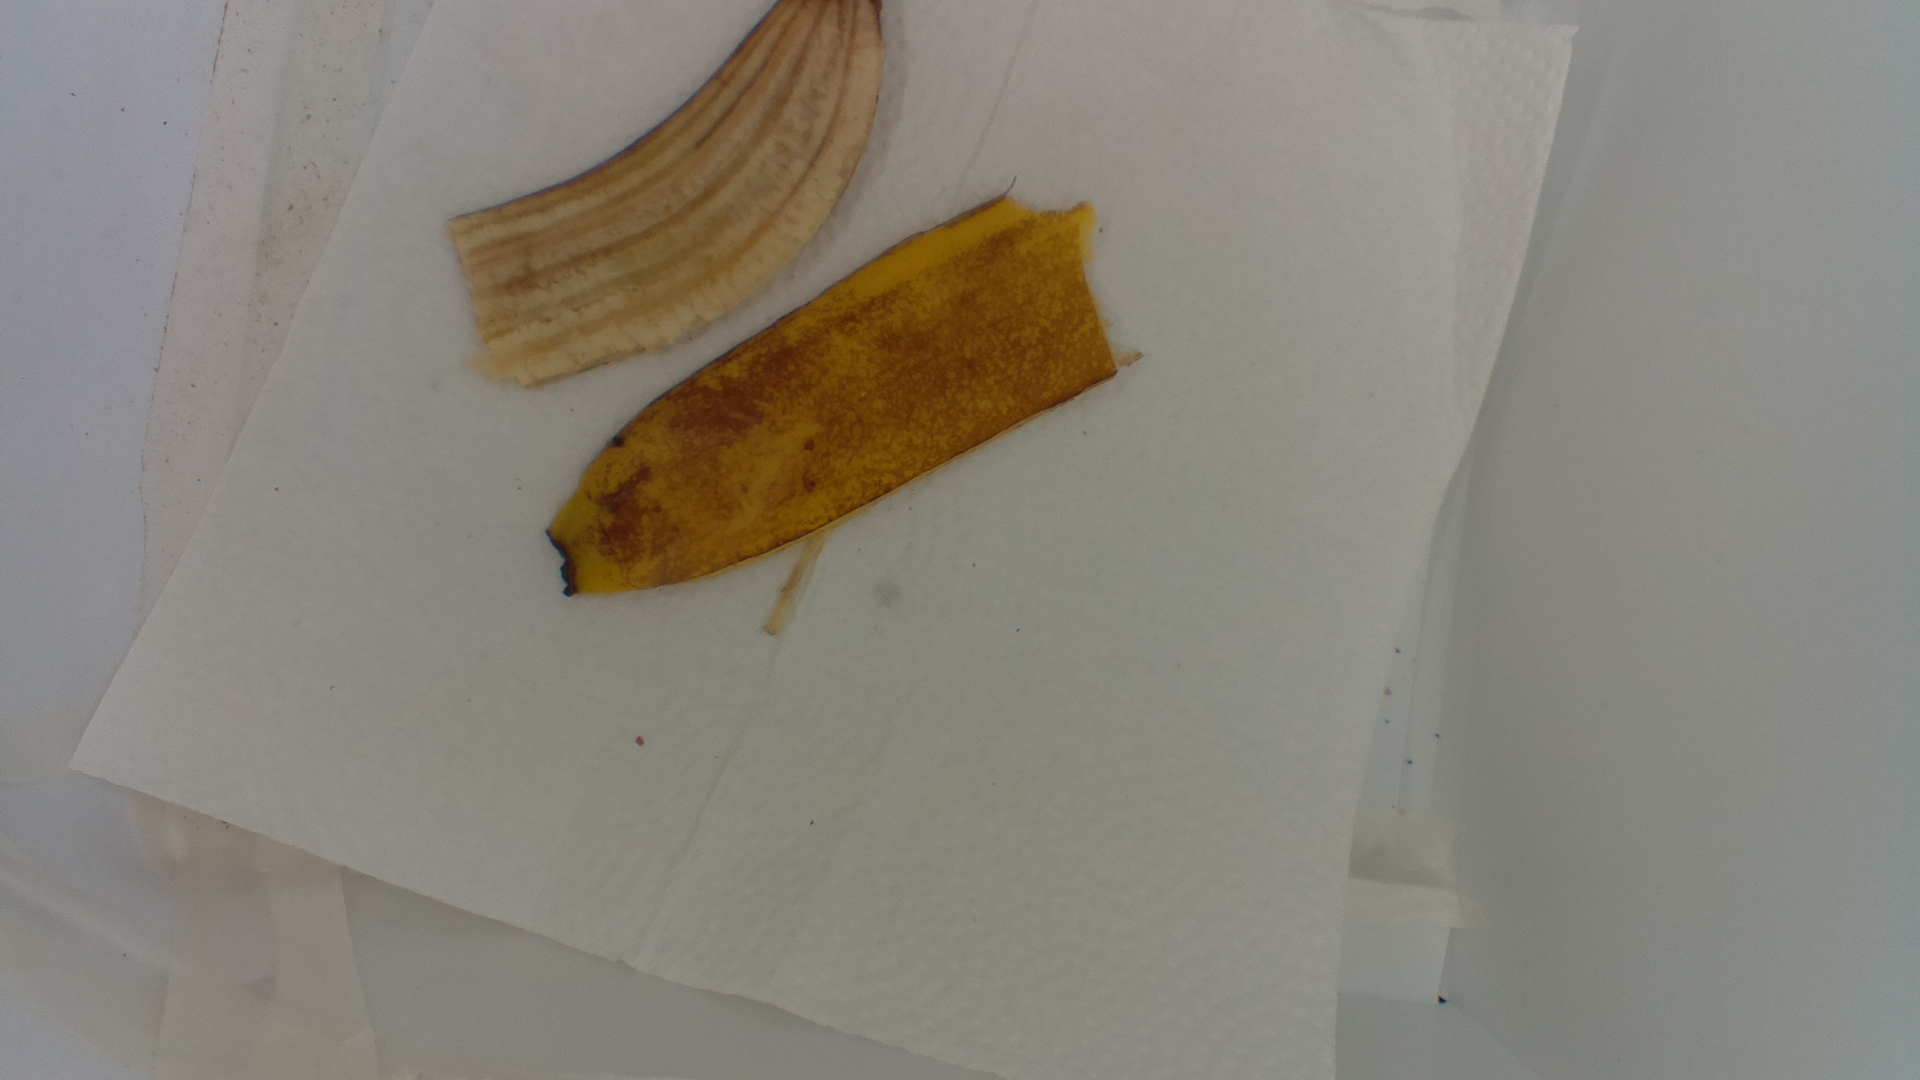fruit: (448, 1, 1134, 626)
